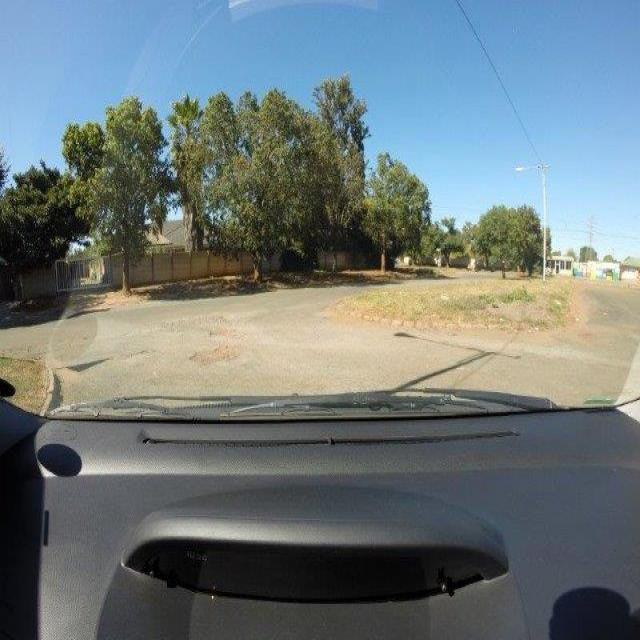lubang: (187, 341, 240, 371), (207, 323, 241, 342)
